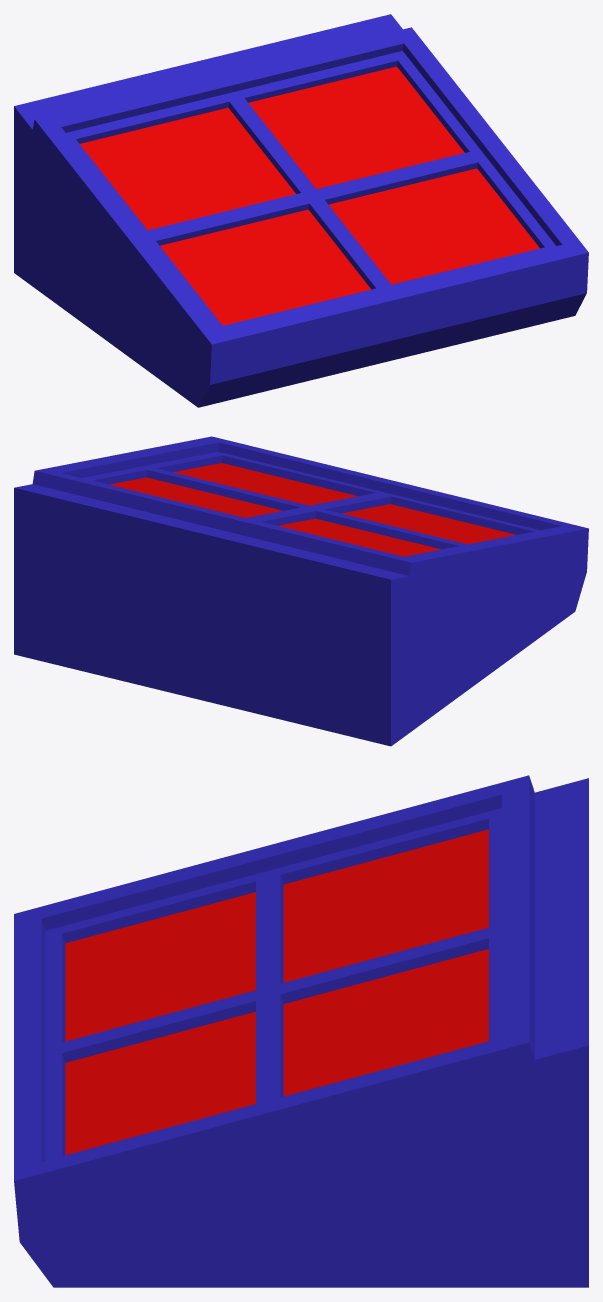
The model's file is SM_remote_control.fbx.
3 views of the same model, one above another, from view 1: azimuth 30°, elevation 25°; view 2: azimuth 150°, elevation 25°; view 3: azimuth 270°, elevation 25° (orthographic). The views are drawn at different scales.
Parts seen in each view (by area): view 1: remote_control; view 2: remote_control; view 3: remote_control.
Part boxes in pixels (x1,y1,x2,y2): remote_control: [14, 14, 588, 407]; remote_control: [14, 436, 588, 746]; remote_control: [14, 775, 588, 1287].
Bounding box in the file's own units: 50 × 21.38 × 45.45.
